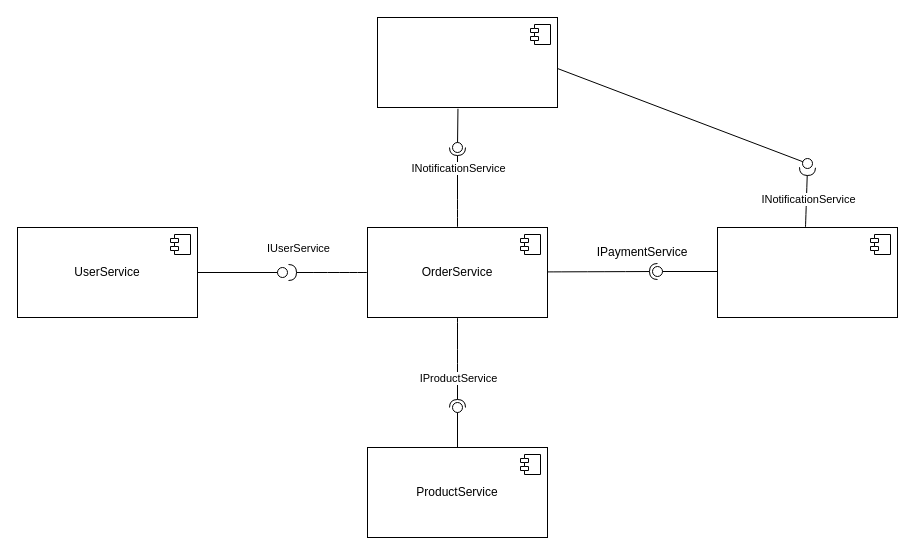
Some shapes in this 915 by 555 pixel diagram are drawn without their labels. The shapes that lost their labels are listed below. From the top down, each one's centre as x and y in pixels, then its label:
At (467,62): "NotificationService".
At (807,272): "PaymentService".
